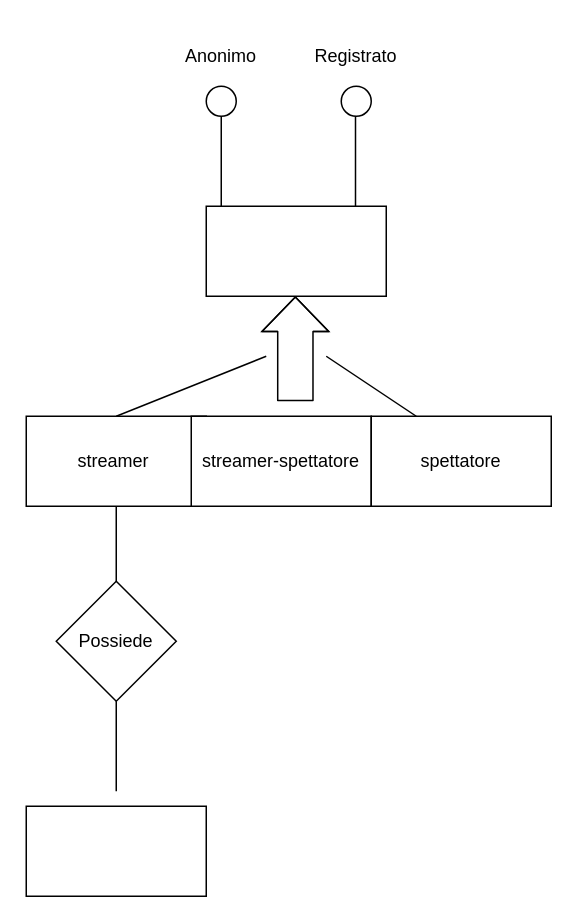
The diagram is 578 pixels wide and 923 high, and some of its shapes have lost their labels. The shapes that lost their labels are listed below. From the top down, each one's centre as x and y in pixels, then its label:
At (x=295, y=250): "Utente".
At (x=115, y=850): "Canale".
